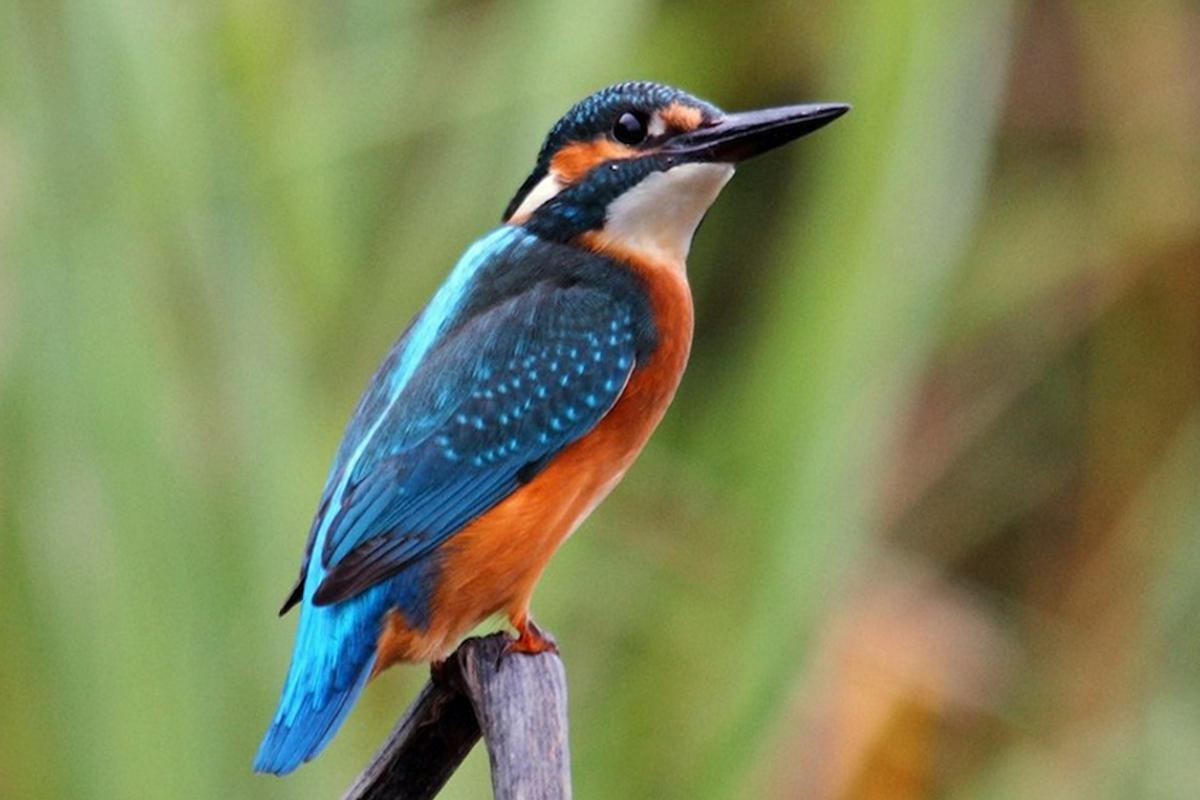kingfisher: (208, 64, 852, 712)
